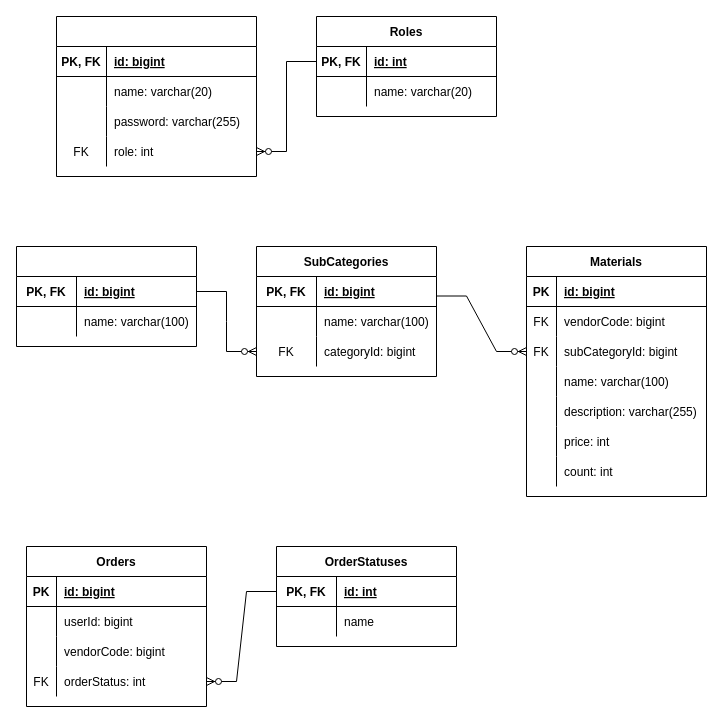
The diagram is 723 pixels wide and 723 high, and some of its shapes have lost their labels. Each missing label, with the box of its shape:
Categories: (16, 246, 196, 346)
Users: (56, 16, 256, 176)
